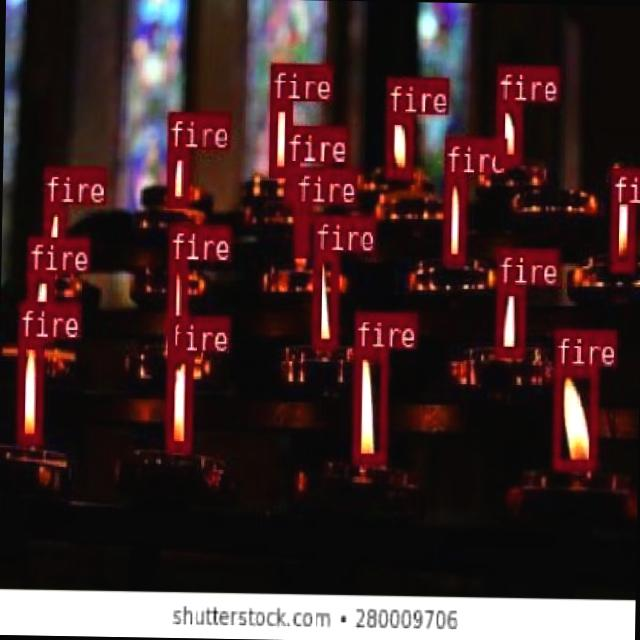fire: (552, 365, 596, 469), (351, 345, 386, 462), (16, 336, 42, 442), (163, 350, 191, 448), (311, 251, 338, 347), (610, 168, 634, 271), (494, 282, 523, 356), (24, 270, 53, 340), (442, 172, 464, 262), (166, 259, 185, 353), (267, 100, 290, 174), (384, 113, 411, 176), (41, 202, 64, 272), (494, 100, 520, 160), (165, 147, 188, 206), (290, 202, 308, 254), (284, 160, 298, 204)
